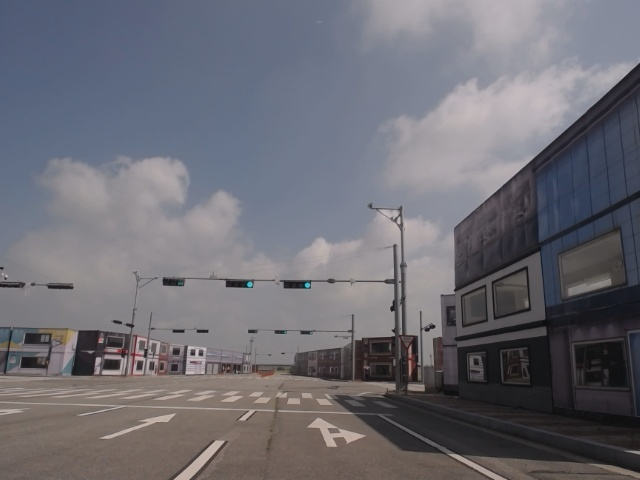straight_green_4: (284, 280, 311, 289), (226, 281, 254, 289)
